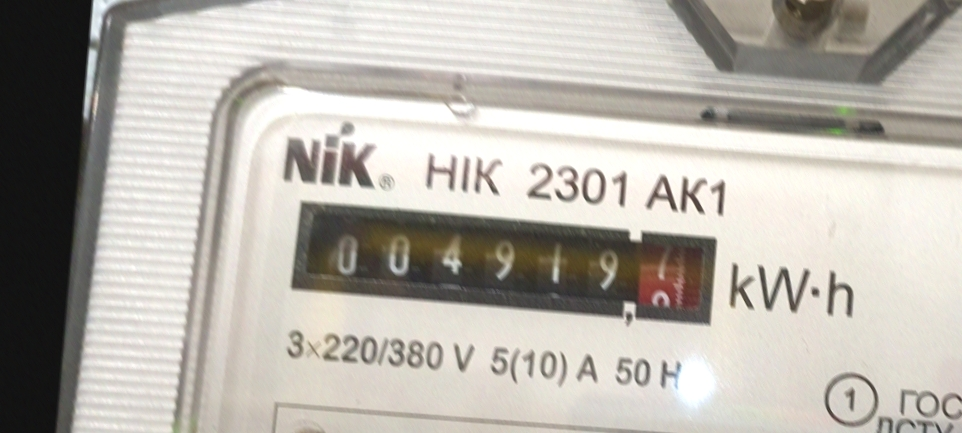0: (385, 231, 415, 278), (334, 232, 361, 277)
1: (547, 240, 566, 286)
4: (439, 231, 466, 276)
7: (649, 242, 676, 283)
9: (595, 246, 622, 295), (491, 238, 518, 284)
screen: (279, 187, 736, 345)
